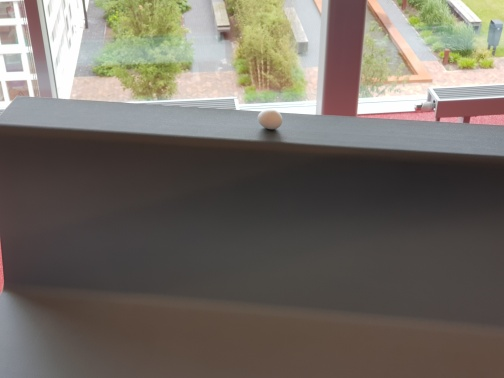egg: (256, 108, 283, 130)
